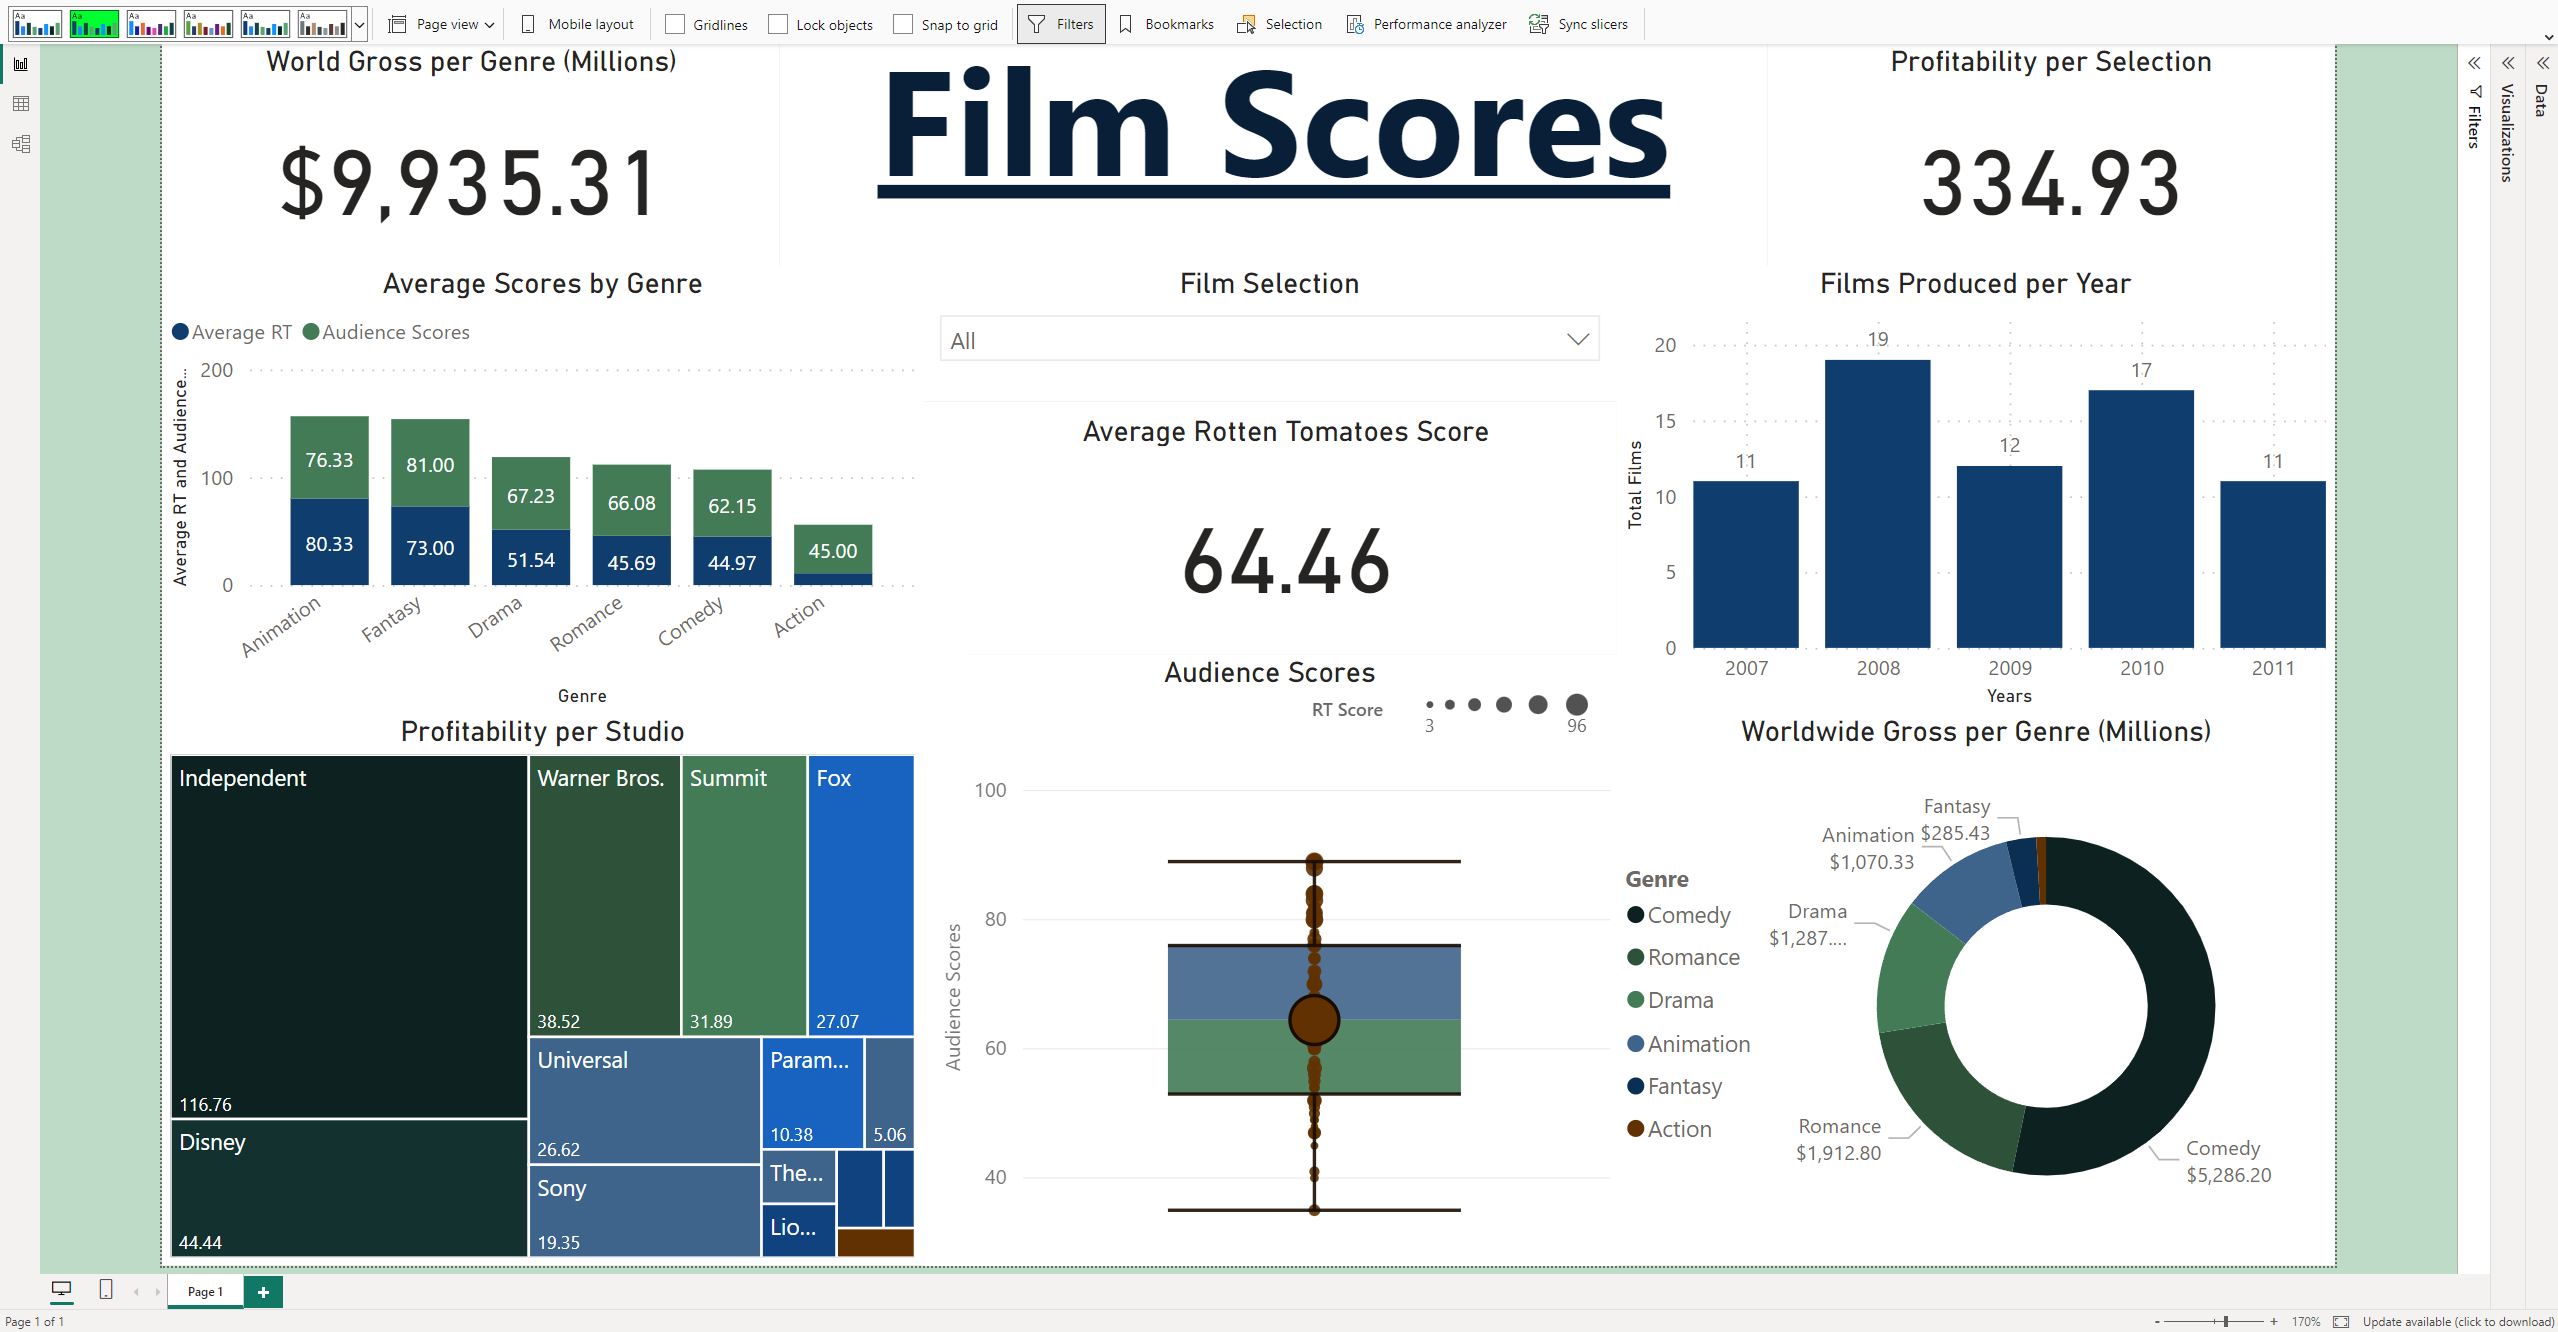

The dashboard page shown, as its layout file describes it:
{"tool":"powerbi","page":{"name":"Page 1","canvas":[1280,720],"ordinal":0},"visuals":[{"type":"columnChart","title":"Average Scores by Genre","fields":{"Category":["clean_df.Genre"],"Y":["Avg(clean_df.Rotten.Tomatoes..)","Avg(clean_df.Audience..score..)"]},"box":[0,130.7,448.7,264],"z":0},{"type":"clusteredColumnChart","title":"Films Produced per Year","fields":{"Category":["clean_df.Year"],"Y":["CountNonNull(clean_df.Film)"]},"box":[857.3,130.7,422.7,264],"z":1000},{"type":"card","title":"Average Rotten Tomatoes Score","fields":{"Values":["Avg(clean_df.Audience..score..)"]},"box":[467.3,210.7,390,149.3],"z":2000},{"type":"treemap","title":"Profitability per Studio","fields":{"Group":["clean_df.Lead.Studio"],"Values":["Sum(clean_df.Profitability)"]},"box":[0,394.7,448.7,325.3],"z":3000},{"type":"card","title":"Profitability per Selection","fields":{"Values":["Sum(clean_df.Profitability)"]},"box":[946,0,334,130.7],"z":4000},{"type":"donutChart","title":"Worldwide Gross per Genre (Millions)","fields":{"Category":["clean_df.Genre"],"Y":["Sum(clean_df.Worldwide.Gross)"]},"box":[857.3,394.7,422.7,325.3],"z":5000},{"type":"card","title":"World Gross per Genre (Millions)","fields":{"Values":["Sum(clean_df.Worldwide.Gross)"]},"box":[0,0,364,130.7],"z":6000},{"type":"slicer","title":"Film Selection","fields":{"Values":["clean_df.Film"]},"box":[448.7,130.7,408.7,80],"z":7000},{"type":"BoxandWhiskerByMAQ1823AD39DT234AB532063E128AX","title":"Audience Scores ","fields":{"category":["clean_df.Film"],"measure":["Sum(clean_df.Audience..score..)"],"categorySize":["Avg(clean_df.Rotten.Tomatoes..)"]},"box":[448.7,360,408.7,360],"z":8000},{"type":"textbox","box":[364,0,582,130.7],"z":9000},{"type":"shape","box":[448.4,210.7,27,158],"z":10000}]}

Visuals, with their boxes on the page's 1280x720 design canvas (x1, y1, x2, y2). These are canvas units, not pixel positions in the 2558x1332 screenshot, which may show the page scaled, cropped or inside an application window:
"Average Scores by Genre" columnChart: region(0, 131, 449, 395)
"Films Produced per Year" clusteredColumnChart: region(857, 131, 1280, 395)
"Average Rotten Tomatoes Score" card: region(467, 211, 857, 360)
"Profitability per Studio" treemap: region(0, 395, 449, 720)
"Profitability per Selection" card: region(946, 0, 1280, 131)
"Worldwide Gross per Genre (Millions)" donutChart: region(857, 395, 1280, 720)
"World Gross per Genre (Millions)" card: region(0, 0, 364, 131)
"Film Selection" slicer: region(449, 131, 857, 211)
"Audience Scores " BoxandWhiskerByMAQ1823AD39DT234AB532063E128AX: region(449, 360, 857, 720)
textbox: region(364, 0, 946, 131)
shape: region(448, 211, 475, 369)
